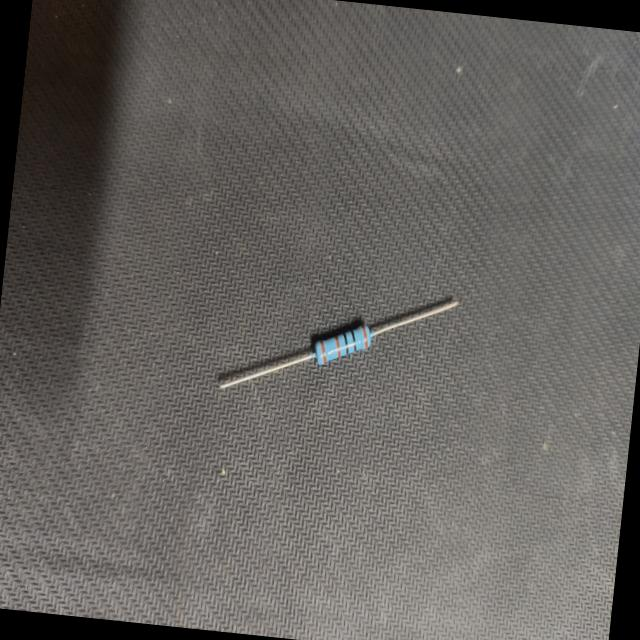resistor: (203, 264, 465, 421)
